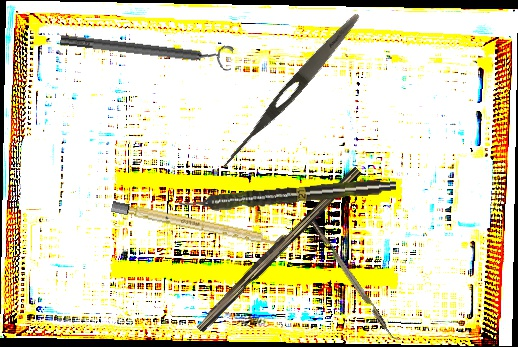Chopper: (309, 215, 404, 345)
Dressing Forceps: (216, 8, 365, 176)
Fixation Ring: (58, 24, 235, 74)
Handpiece: (178, 176, 397, 214)
Scalpel Handle: (193, 161, 362, 336), (110, 200, 285, 249)
